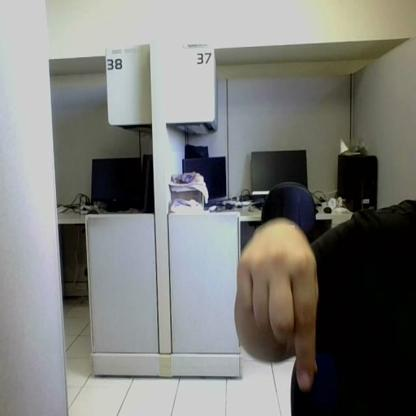Q: (238, 240, 318, 390)
